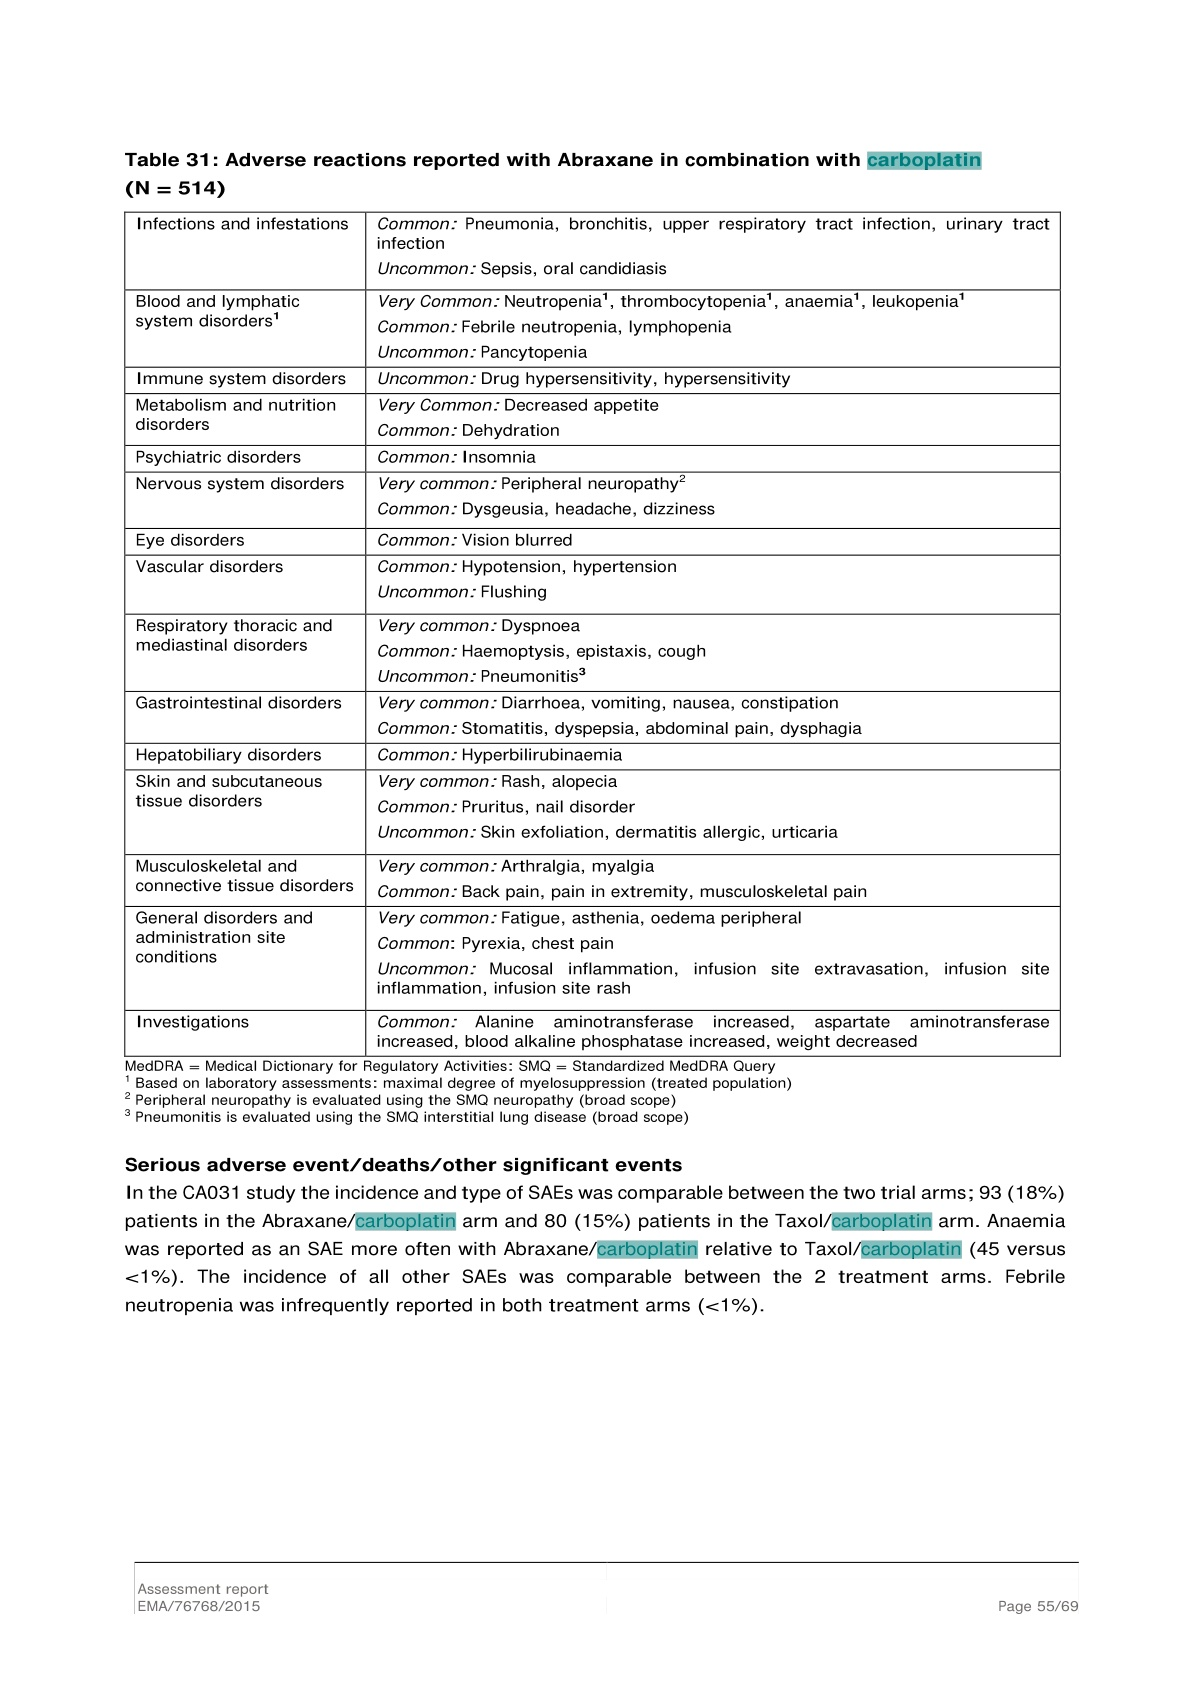full_lined: (124, 210, 1061, 1057)
